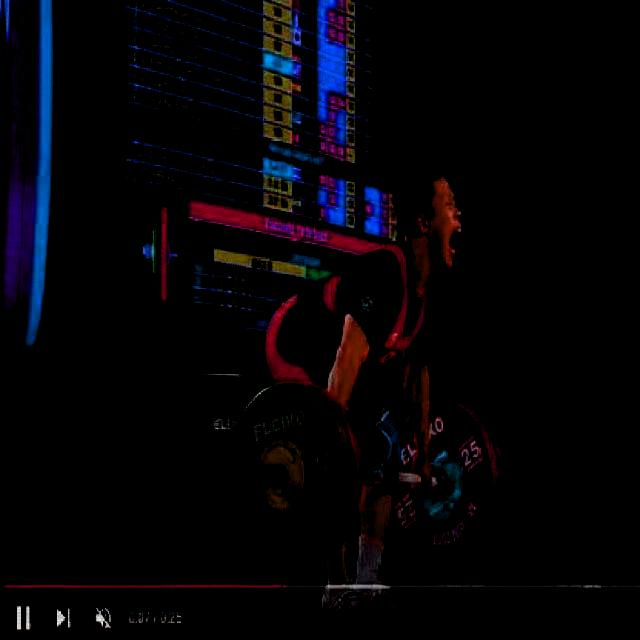barbell: (222, 372, 352, 575)
